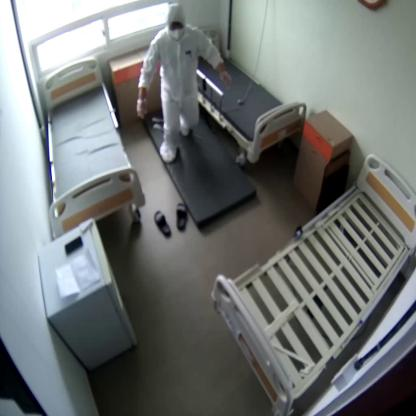Person: (137, 6, 233, 164)
